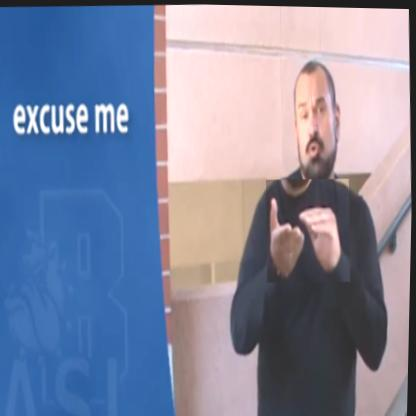ExcuseMe: (265, 176, 354, 283)
